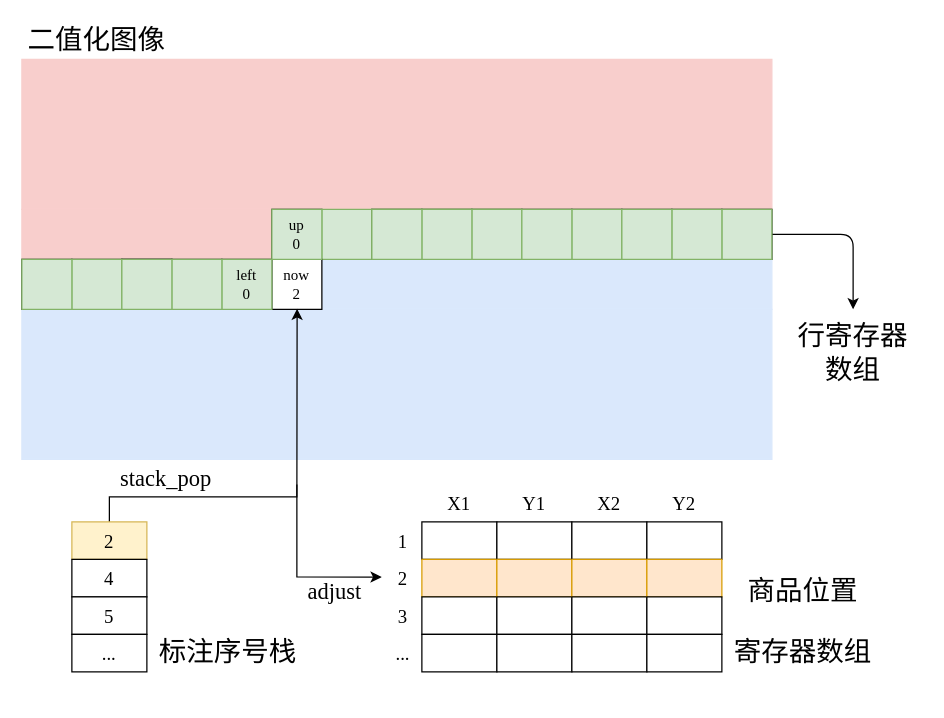
The diagram is 944 pixels wide and 718 high, and some of its shapes have lost their labels. The centre of each missing label's shape, as x and y in pixels:
"已遍历区域" goes at point (396, 133).
"未遍历区域" goes at point (396, 383).
